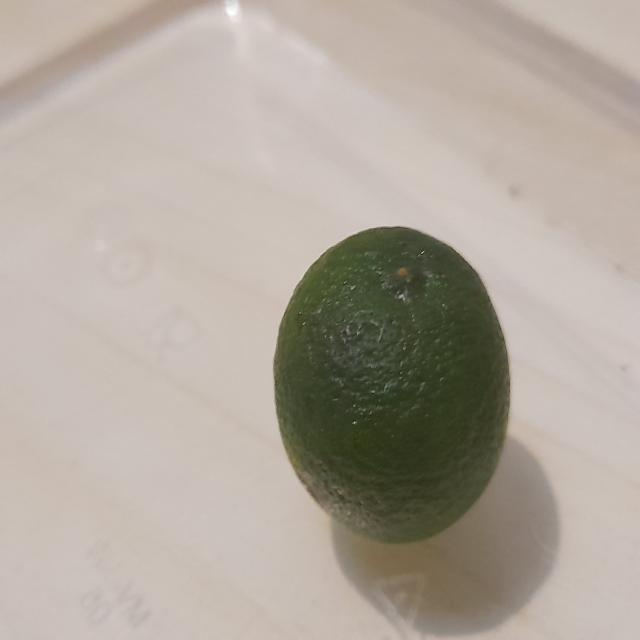heathy: (272, 216, 514, 549)
